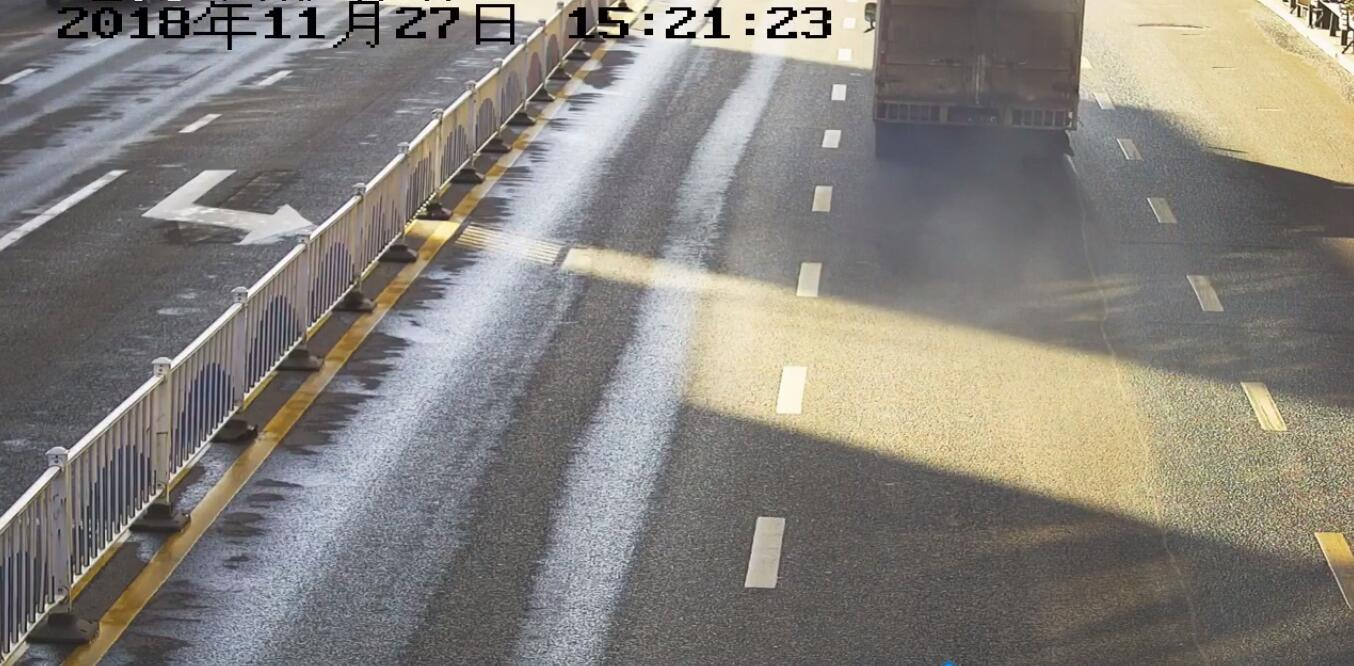smoke: (897, 122, 1079, 241)
